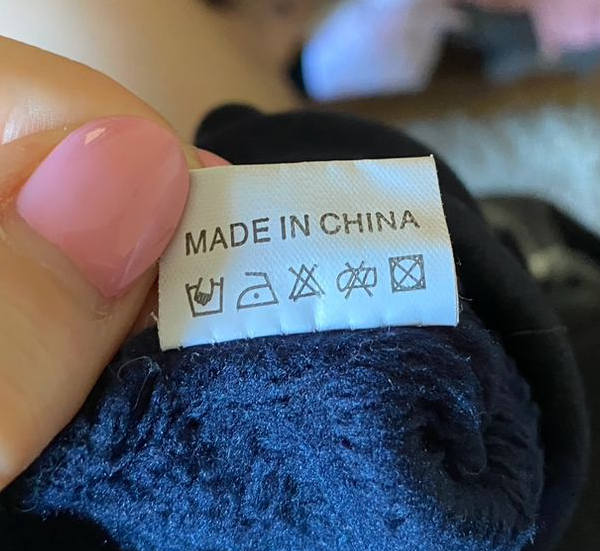do_not_bleach: (287, 259, 326, 303)
do_not_tumble_drying: (387, 250, 428, 294)
hand_wash: (183, 272, 227, 318)
ironing_at_low_temp: (234, 268, 280, 312)
